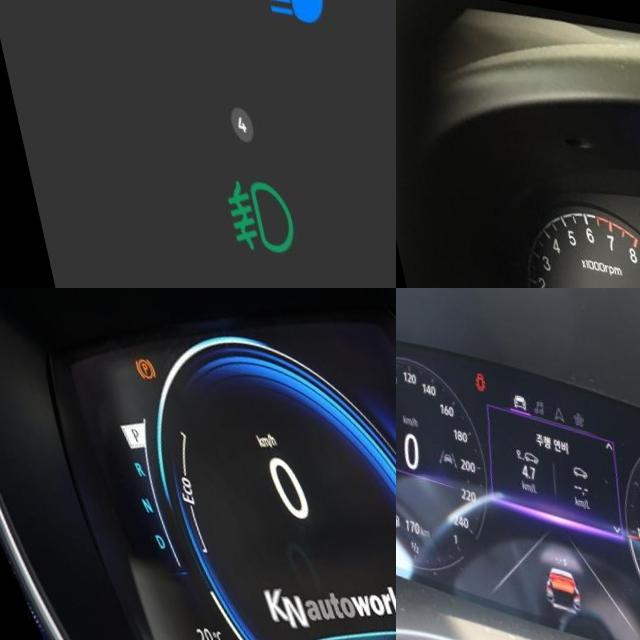Doors: (460, 360, 477, 384)
FrontFogLight: (200, 166, 277, 250)
